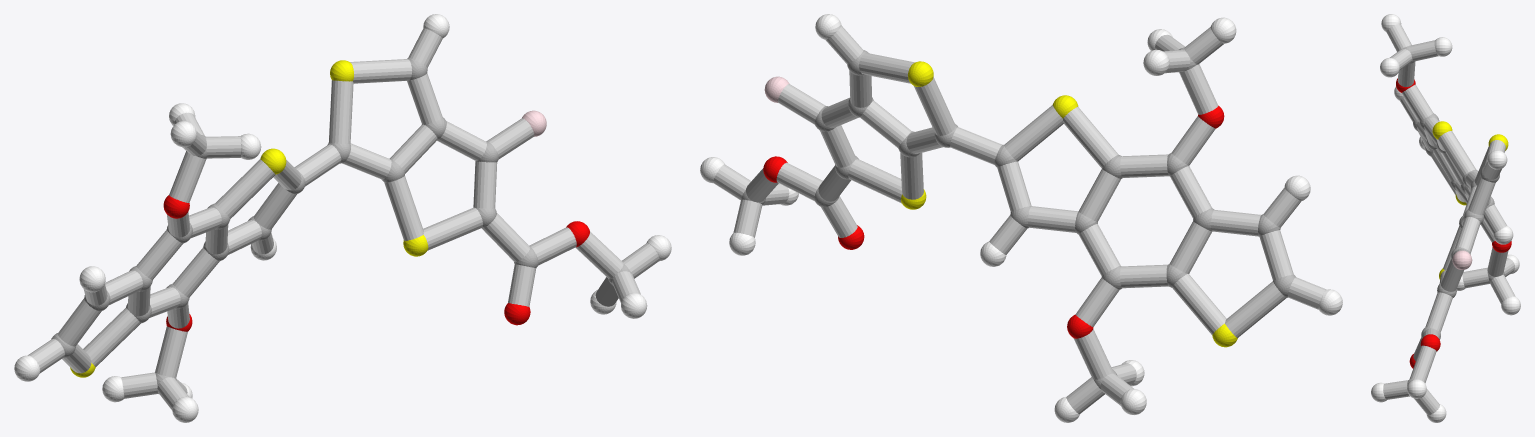
File: Dimethoxy_Benzodithiophene_Phi_10_Theta_130_Methylcarbonyl_3_Fluoro_Thienothiophene.glb
3 views of the same model, side by side, from view 1: azimuth 30°, elevation 25°; view 2: azimuth 150°, elevation 25°; view 3: azimuth 270°, elevation 25° (orthographic). The views are drawn at different scales.
Parts seen in each view (by area): view 1: grp15205, grp8689, grp1, grp7241, grp13395; view 2: grp15205, grp8689, grp1, grp7241, grp13395; view 3: grp15205, grp8689, grp1, grp13395, grp7241, grp14843.
Boxes of the visible parts, x1,y1,x2,y2 form: grp15205: (27, 28, 659, 410); grp8689: (14, 14, 671, 422); grp1: (51, 58, 631, 393); grp7241: (70, 60, 428, 377); grp13395: (163, 195, 589, 331); grp15205: (713, 25, 1326, 413); grp8689: (700, 14, 1342, 422); grp1: (741, 47, 1295, 388); grp7241: (901, 61, 1237, 347); grp13395: (763, 105, 1224, 338); grp15205: (1383, 24, 1515, 415); grp8689: (1371, 14, 1520, 422); grp1: (1402, 45, 1504, 385); grp13395: (1396, 78, 1511, 368); grp7241: (1432, 121, 1508, 279); grp14843: (1452, 250, 1472, 269).
Size of the model in its own units: 16.95 by 9.08 by 4.54.
